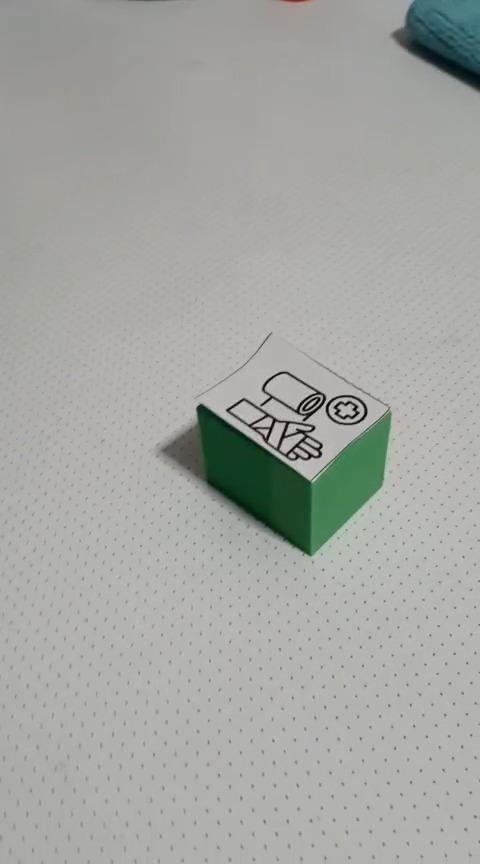Bandages: (194, 330, 392, 556), (403, 0, 479, 80)
